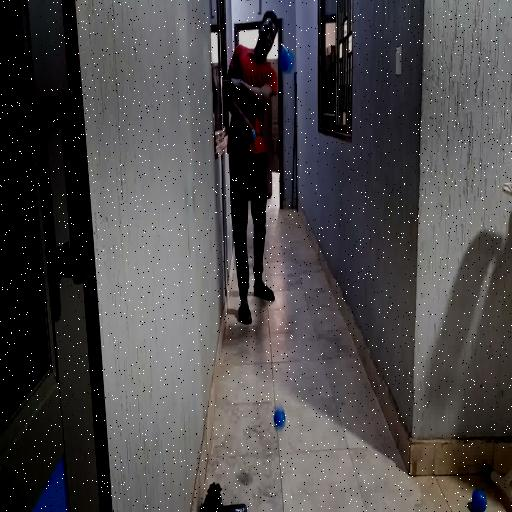plastic-ball: (280, 43, 295, 77)
